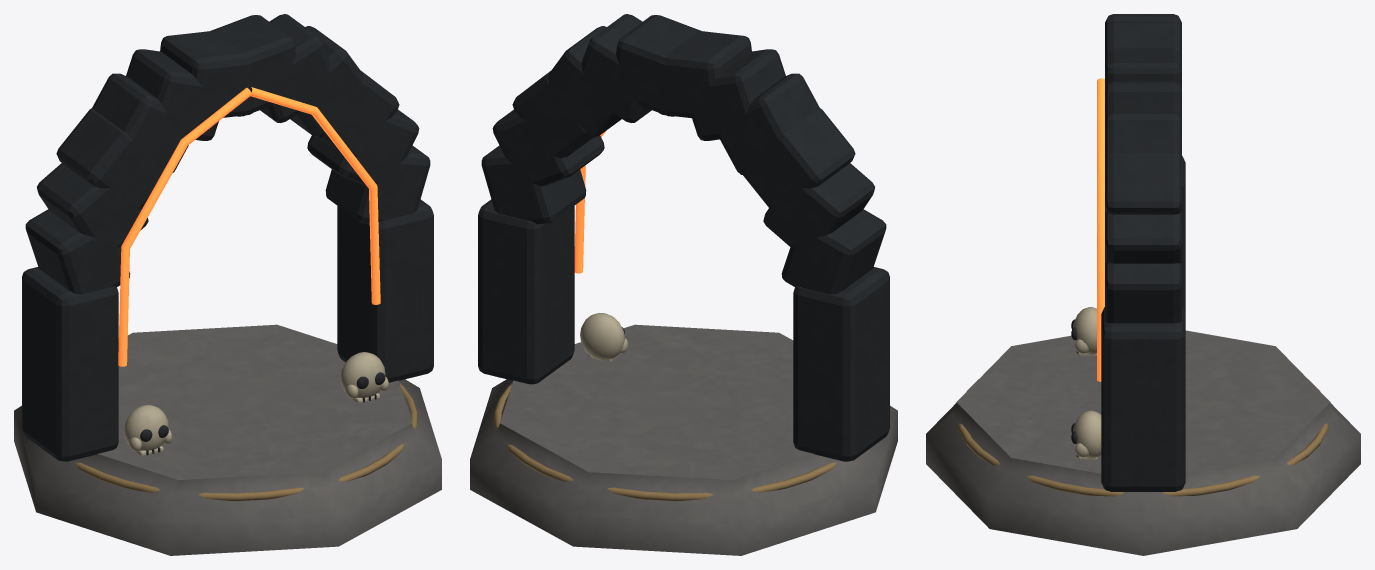
The model's file is ember_rift_prop.glb.
3 renders of one model, left to right at view 1: azimuth 30°, elevation 25°; view 2: azimuth 150°, elevation 25°; view 3: azimuth 270°, elevation 25°, orthographic.
Visible parts, largest first — view 1: ember_rift_prop; view 2: ember_rift_prop; view 3: ember_rift_prop.
Boxes of the visible parts, <box> form: ember_rift_prop: <box>14,14,441,555</box>; ember_rift_prop: <box>470,14,897,555</box>; ember_rift_prop: <box>926,14,1360,555</box>.
Bounding box in the file's own units: 1.24 × 1.32 × 1.24.
5 materials, 4 textured.
